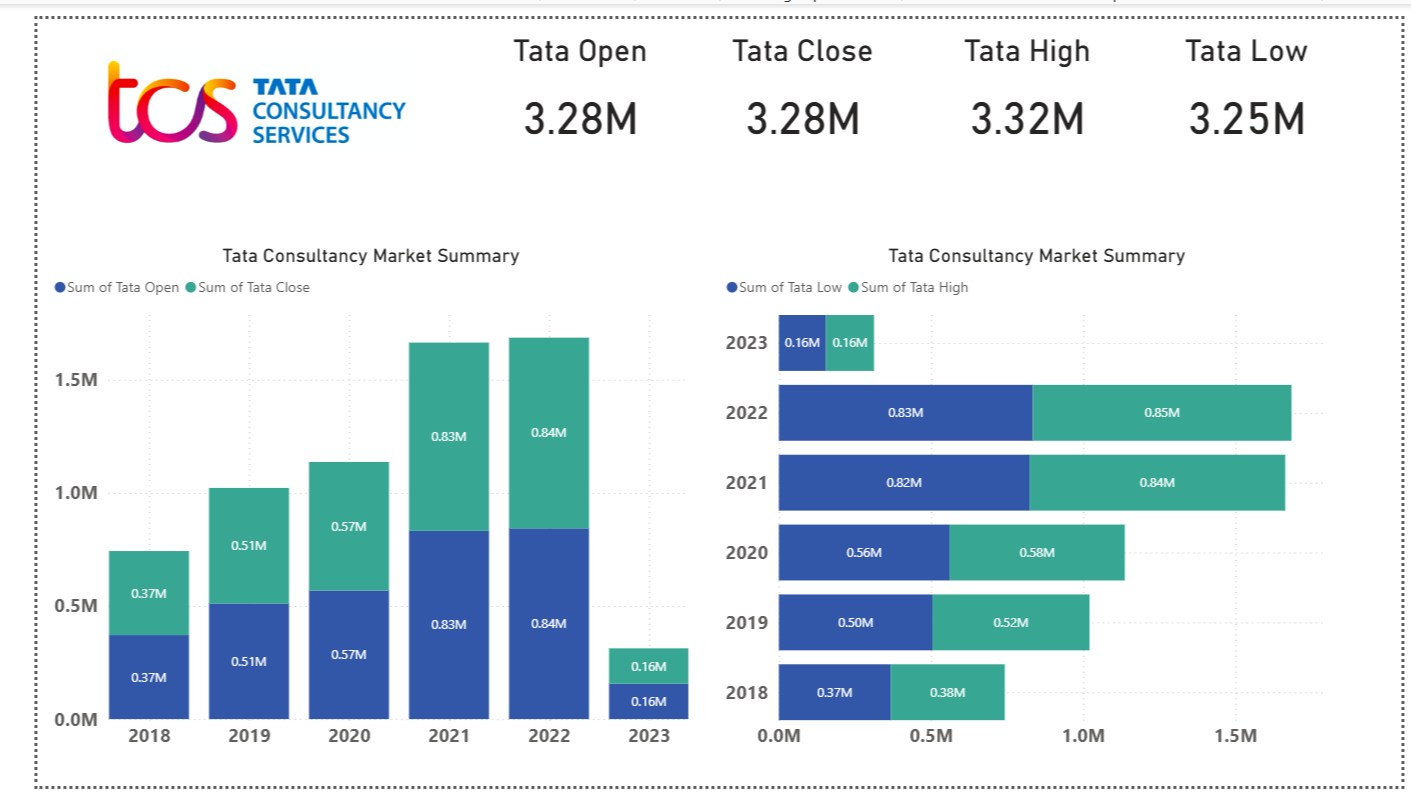

Layout of this report page (visuals, bound fields, positions):
{"tool":"powerbi","page":{"name":"TCS","canvas":[1280,720],"ordinal":0},"visuals":[{"type":"image","box":[9.4,13.2,393.1,119.1],"z":0},{"type":"card","title":"Tata Open","fields":{"Values":["Sum(TCS NS.Tata Open)"]},"box":[402.5,13.2,213.5,119.1],"z":1000},{"type":"card","title":"Tata Close","fields":{"Values":["Sum(TCS NS.Tata Close)"]},"box":[616.1,13.2,206,119.1],"z":2000},{"type":"card","title":"Tata High","fields":{"Values":["Sum(TCS NS.Tata High)"]},"box":[822.1,13.2,213.5,119.1],"z":3000},{"type":"card","title":"Tata Low","fields":{"Values":["Sum(TCS NS.Tata Low)"]},"box":[1035.6,13.2,200.3,119.1],"z":4000},{"type":"columnChart","title":"Tata Consultancy Market Summary ","fields":{"Category":["TCS NS.Year"],"Y":["Sum(TCS NS.Tata Open)","Sum(TCS NS.Tata Close)"]},"box":[9.4,211.7,606.6,483.8],"z":5000},{"type":"barChart","title":"Tata Consultancy Market Summary ","fields":{"Category":["TCS NS.Year"],"Y":["Sum(TCS NS.Tata Low)","Sum(TCS NS.Tata High)"]},"box":[640.6,211.7,595.3,483.8],"z":6000}]}

Visuals, with their boxes in screenshot pixels (x1, y1, x2, y2), scaled from the page's 1280x720 canvas onto the 1411x796 screenshot:
image: [10,15,444,146]
"Tata Open" card: [444,15,679,146]
"Tata Close" card: [679,15,906,146]
"Tata High" card: [906,15,1142,146]
"Tata Low" card: [1142,15,1362,146]
"Tata Consultancy Market Summary " columnChart: [10,234,679,769]
"Tata Consultancy Market Summary " barChart: [706,234,1362,769]
